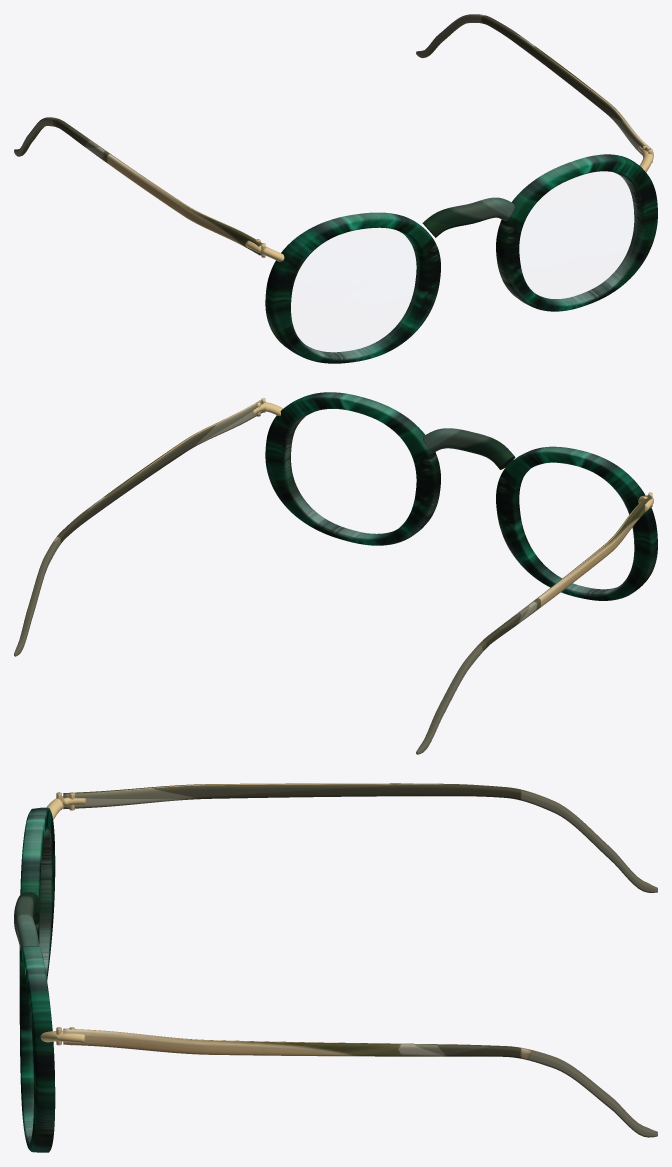
Rendered from prod-r1.glb.
3 views of the same model, one above another, from view 1: azimuth 30°, elevation 25°; view 2: azimuth 150°, elevation 25°; view 3: azimuth 270°, elevation 25° (orthographic). The views are drawn at different scales.
Visible parts, largest first — view 1: Traced bevelled frame -1, Traced bevelled frame 1, Fitted temple exterior -1, Fitted temple exterior 1, Saddle nose bridge; view 2: Traced bevelled frame 1, Traced bevelled frame -1, Fitted temple exterior 1, Fitted temple exterior -1, Saddle nose bridge; view 3: Fitted temple exterior -1, Fitted temple exterior 1, Traced bevelled frame 1, Traced bevelled frame -1, Saddle nose bridge.
Part boxes in pixels (x1,y1,x2,y2): Traced bevelled frame -1: (265,212,440,363); Traced bevelled frame 1: (496,154,657,311); Fitted temple exterior -1: (14,117,262,255); Fitted temple exterior 1: (416,14,650,155); Saddle nose bridge: (422,197,515,237); Traced bevelled frame 1: (265,392,440,545); Traced bevelled frame -1: (496,446,657,600); Fitted temple exterior 1: (14,400,263,656); Fitted temple exterior -1: (416,495,651,754); Saddle nose bridge: (422,428,515,469); Fitted temple exterior -1: (63,783,657,892); Fitted temple exterior 1: (63,1028,657,1137); Traced bevelled frame 1: (19,946,55,1152); Traced bevelled frame -1: (19,807,55,980); Saddle nose bridge: (14,892,40,950).
Bounding box in the file's own units: 0.1436 × 0.045 × 0.1484.
5 materials, 3 textured.
